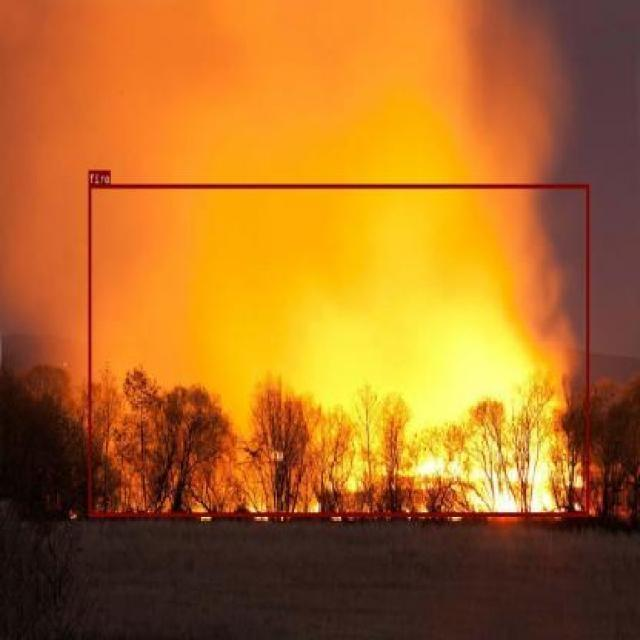fire: (88, 183, 590, 516)
